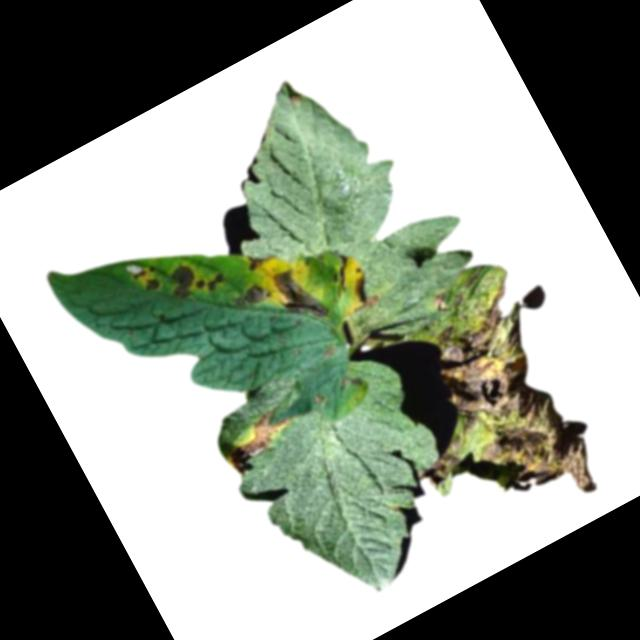Early_blight: (341, 253, 617, 562), (215, 396, 314, 480), (265, 256, 332, 333), (170, 250, 230, 307), (338, 265, 386, 317), (230, 280, 270, 316), (129, 263, 164, 300), (242, 245, 275, 274)
